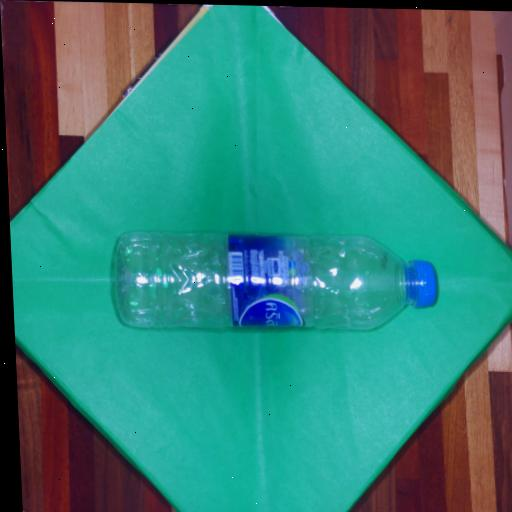bottle: (76, 194, 467, 361)
